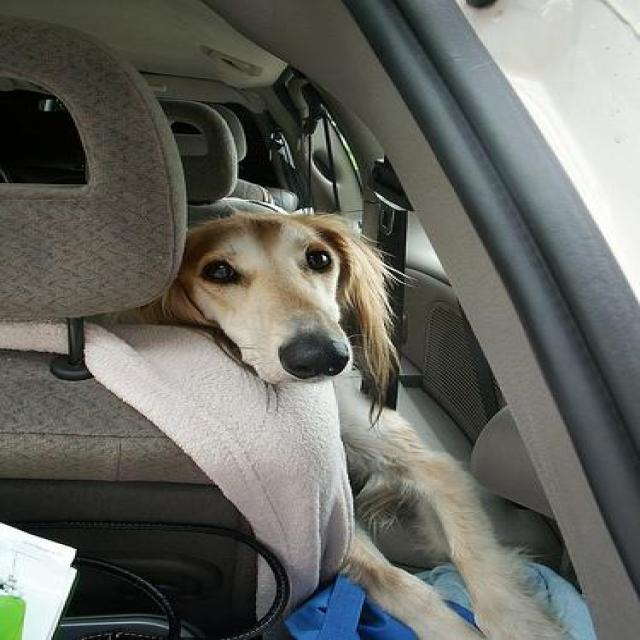saluki: (140, 208, 567, 638)
